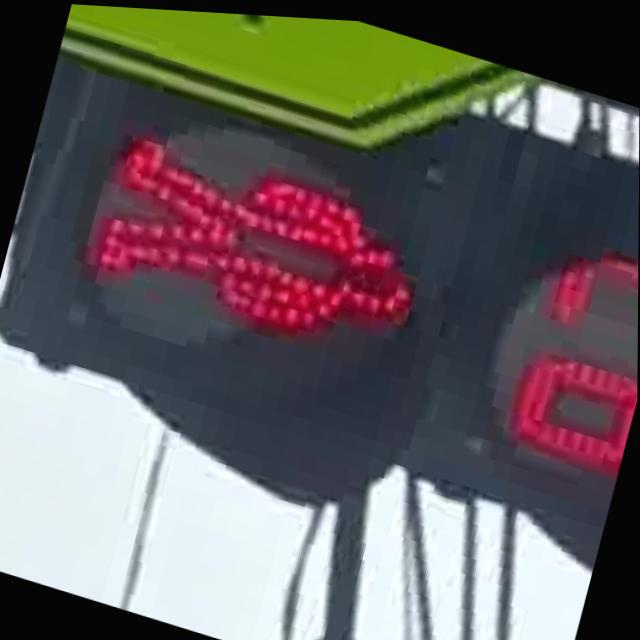red_light: (61, 100, 451, 397)
